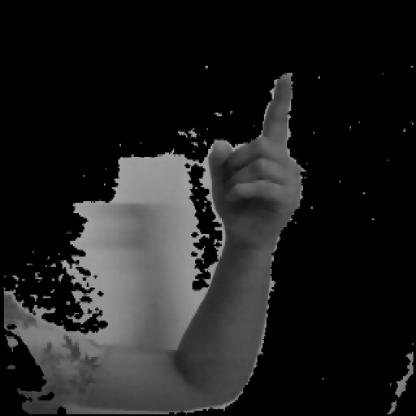one: (114, 69, 318, 392)
